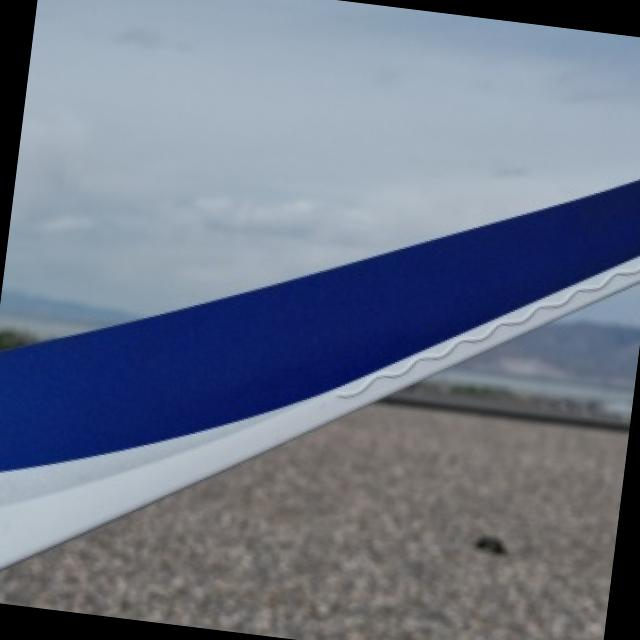healthy: (0, 178, 640, 564), (0, 403, 626, 640)
